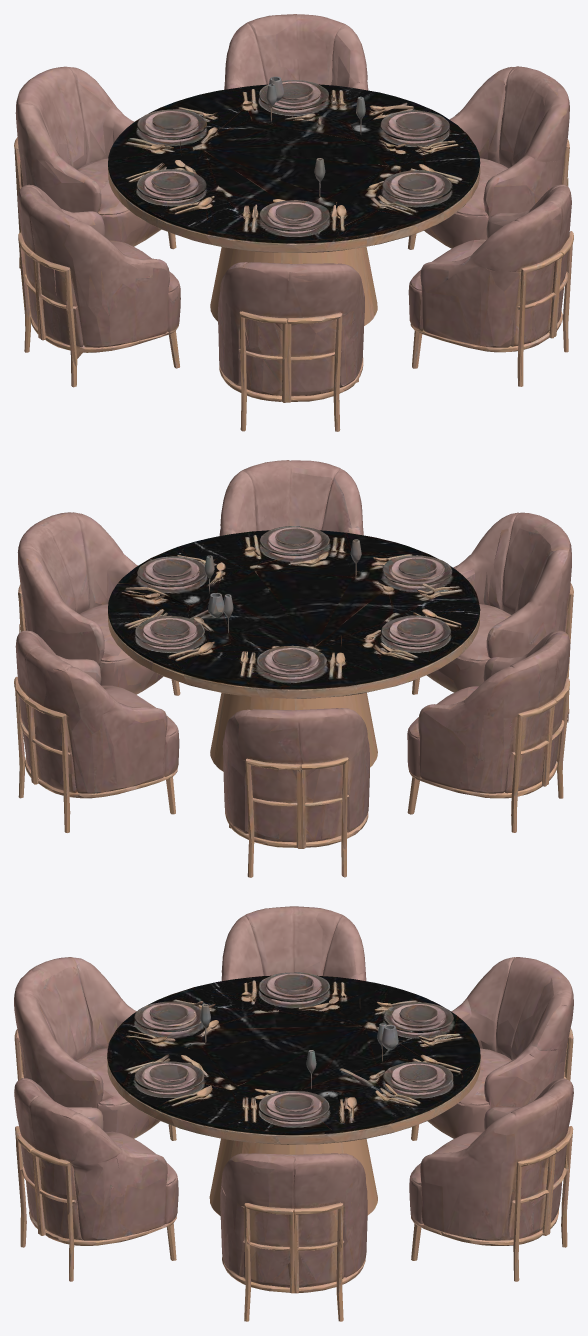
File: dining.glb
The picture shows the model from 3 angles, top to bottom: view 1: azimuth 30°, elevation 25°; view 2: azimuth 150°, elevation 25°; view 3: azimuth 270°, elevation 25°; orthographic projection.
Parts seen in each view (by area): view 1: room_dining; view 2: room_dining; view 3: room_dining.
Part boxes in pixels (box(x1,y1,x2,y2)): room_dining: box(14, 14, 573, 431); room_dining: box(14, 460, 573, 877); room_dining: box(14, 906, 573, 1321).
Size of the model in its own units: 2.7 by 0.9238 by 2.47.
1 material, 1 textured.
